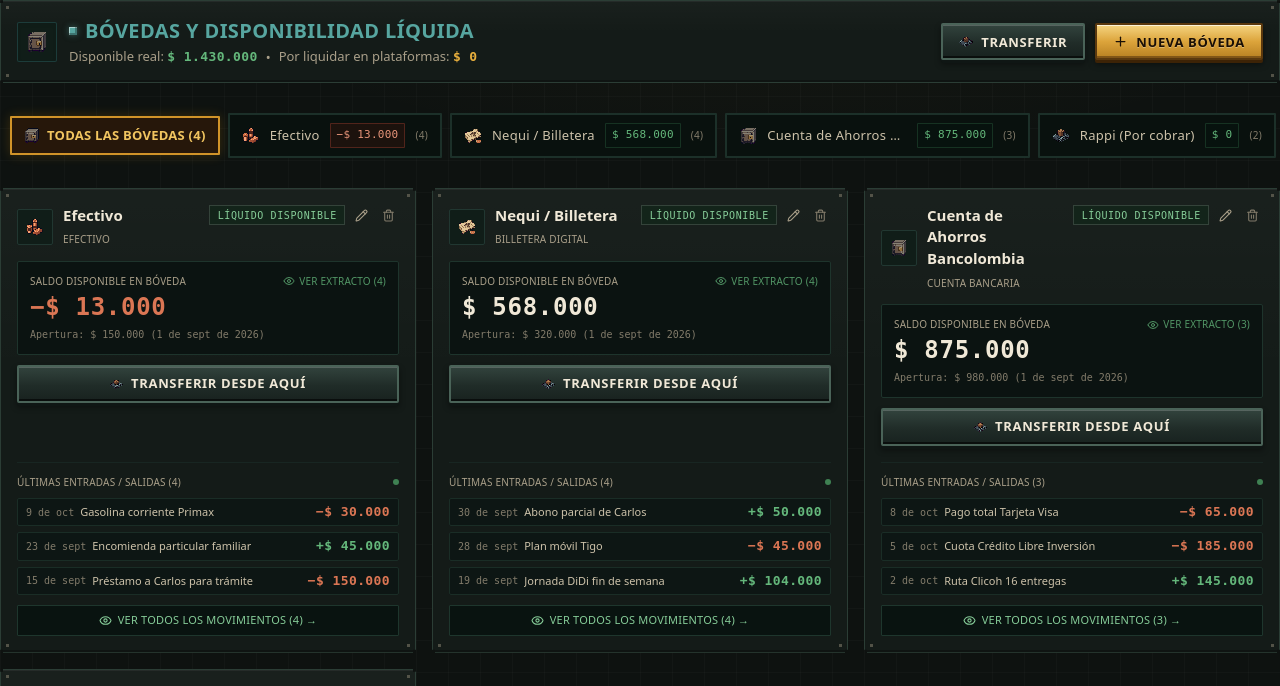
Test: FORJA III — Verificación de interfaz, perfiles adaptativos y legibilidad numérica › permite entrar individualmente a una bóveda en AccountsPage y ver su extracto Kardex con saldo corrido
Expected: the heading "BÓVEDAS Y DISPONIBILIDAD LÍQUIDA" is shown, x1=85 y1=17 x2=474 y2=45
Click the 1st button "VER TODOS LOS MOVIMIENTOS (4) →". click: [208, 620]
box: x1=17 y1=605 x2=399 y2=636
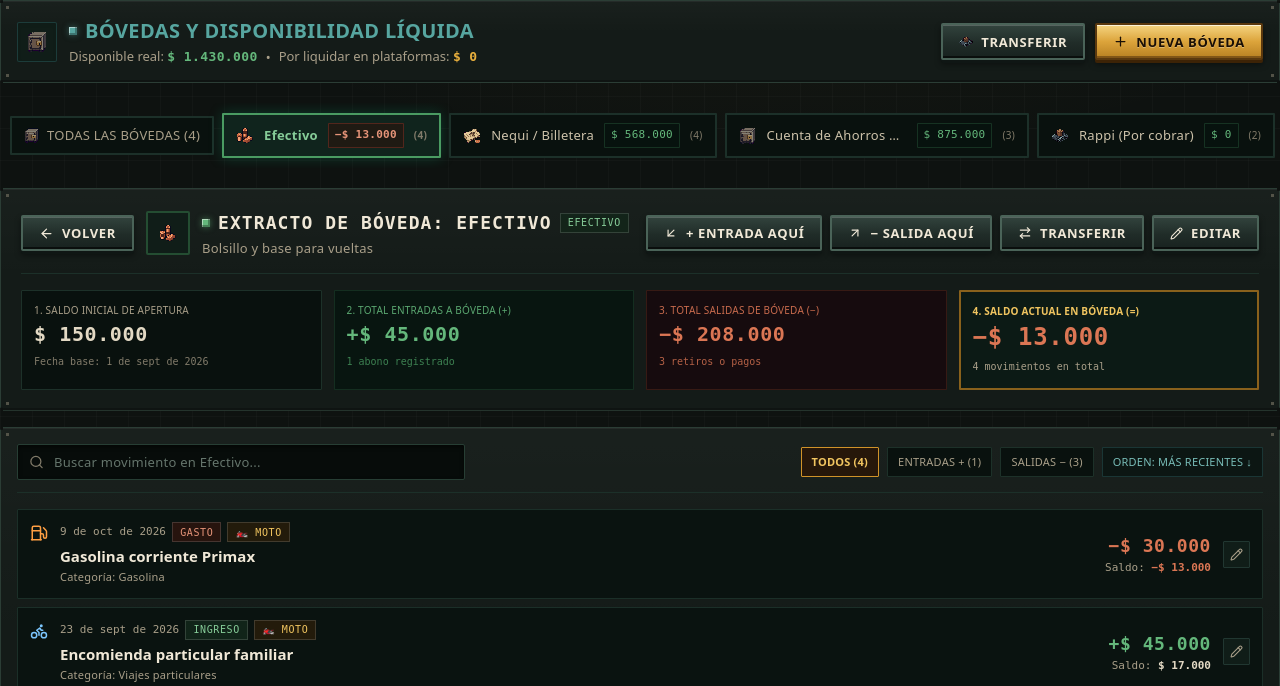
Expected: the heading "EXTRACTO DE BÓVEDA: Efectivo" is shown, x1=218 y1=209 x2=552 y2=237
Expected: the text "1. SALDO INICIAL DE APERTURA" is shown, x1=34 y1=303 x2=189 y2=317
Expected: the text "2. TOTAL ENTRADAS A BÓVEDA (+)" is shown, x1=346 y1=303 x2=511 y2=317
